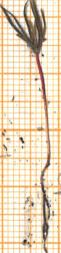flower: (1, 0, 53, 55)
root: (35, 130, 57, 251)
stem: (35, 54, 53, 132)
